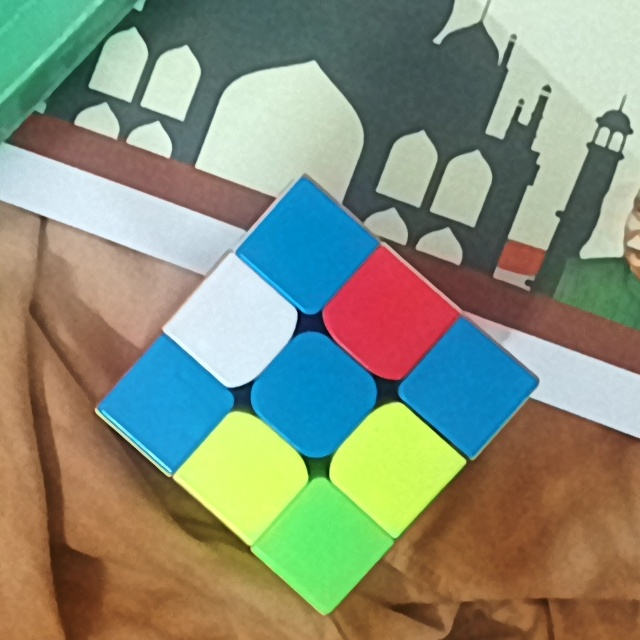tile: (361, 428, 431, 500), (271, 215, 347, 281), (438, 345, 502, 423), (289, 510, 358, 580), (208, 437, 279, 505), (355, 282, 428, 348), (282, 358, 352, 425), (197, 295, 267, 359), (129, 377, 197, 438)
